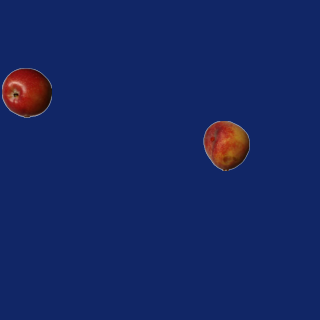Apple Braeburn: (1, 67, 51, 117)
Peach: (201, 120, 251, 170)
